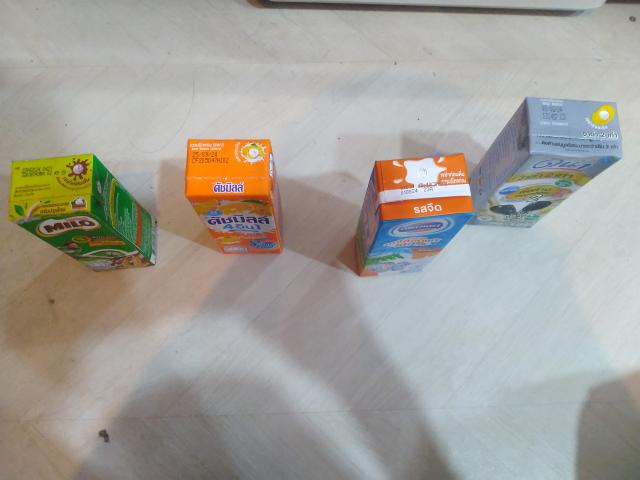drink_box: (481, 84, 625, 259), (7, 145, 165, 287), (177, 128, 316, 276), (349, 145, 475, 298)
